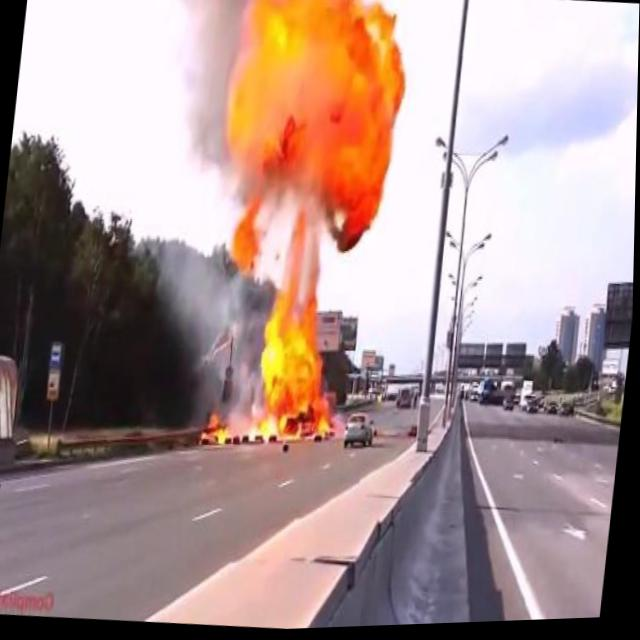fire: (212, 0, 418, 251), (246, 229, 358, 454), (200, 407, 239, 455)
